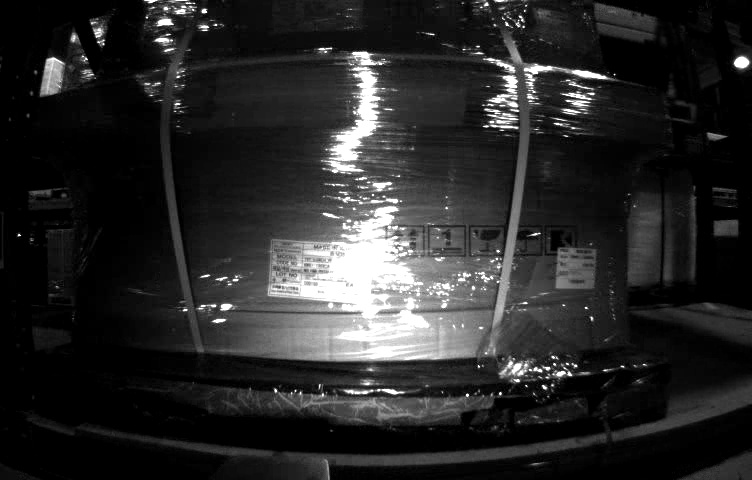True Barcode: (554, 246, 598, 291)
